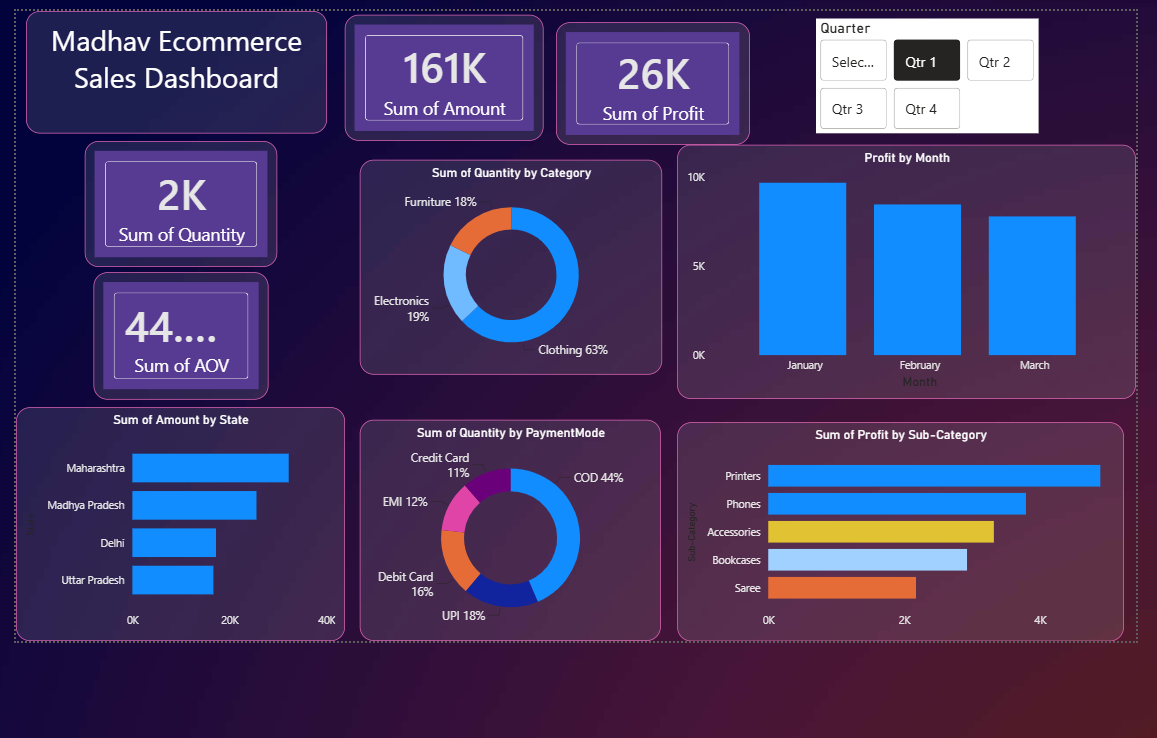

What the dashboard file says about the page in this screenshot:
{"tool":"powerbi","page":{"name":"Page 1","canvas":[1280,720],"ordinal":0},"visuals":[{"type":"textbox","box":[11.4,0,344.3,140],"z":0},{"type":"columnChart","title":" Profit by Month","fields":{"Y":["Sum(Details.Profit)"],"Category":["Orders (1).Order Date.Variation.Date Hierarchy.Month"]},"box":[755.7,152.9,524.3,290],"z":1000},{"type":"barChart","fields":{"Category":["Details.Sub-Category"],"Y":["Sum(Details.Profit)"]},"box":[755.7,470,510,250],"z":2000},{"type":"donutChart","fields":{"Category":["Details.Category"],"Y":["Sum(Details.Quantity)"]},"box":[392.9,170,345.7,245.7],"z":3000},{"type":"donutChart","fields":{"Y":["Sum(Details.Quantity)"],"Category":["Details.PaymentMode"]},"box":[392.9,467.1,344.3,252.9],"z":4000},{"type":"cardVisual","fields":{"Data":["Sum(Details.Amount)"]},"box":[375.7,4.3,227.1,144.3],"z":5000},{"type":"cardVisual","fields":{"Data":["Sum(Details.Quantity)"]},"box":[78.6,148.6,220,144.3],"z":6000},{"type":"cardVisual","fields":{"Data":["Sum(Details.Profit)"]},"box":[617.1,12.9,221.4,140],"z":7000},{"type":"cardVisual","fields":{"Data":["Sum(Details.AOV)"]},"box":[88.6,298.6,200,145.7],"z":8000},{"type":"barChart","fields":{"Y":["Sum(Details.Amount)"],"Category":["Orders (1).State"]},"box":[0,452.9,375.7,267.1],"z":9000},{"type":"advancedSlicerVisual","fields":{"Values":["Orders (1).Order Date.Variation.Date Hierarchy.Quarter"]},"box":[914.3,8.6,254.3,131.4],"z":10000}]}

Visuals, with their boxes on the page's 1280x720 design canvas (x1, y1, x2, y2). These are canvas units, not pixel positions in the 1157x738 screenshot, which may show the page scaled, cropped or inside an application window:
textbox: x1=11 y1=0 x2=356 y2=140
" Profit by Month" columnChart: x1=756 y1=153 x2=1280 y2=443
barChart - Details.Sub-Category x Sum(Details.Profit): x1=756 y1=470 x2=1266 y2=720
donutChart - Details.Category x Sum(Details.Quantity): x1=393 y1=170 x2=739 y2=416
donutChart - Sum(Details.Quantity) x Details.PaymentMode: x1=393 y1=467 x2=737 y2=720
cardVisual - Sum(Details.Amount): x1=376 y1=4 x2=603 y2=149
cardVisual - Sum(Details.Quantity): x1=79 y1=149 x2=299 y2=293
cardVisual - Sum(Details.Profit): x1=617 y1=13 x2=838 y2=153
cardVisual - Sum(Details.AOV): x1=89 y1=299 x2=289 y2=444
barChart - Sum(Details.Amount) x Orders (1).State: x1=0 y1=453 x2=376 y2=720
advancedSlicerVisual - Orders (1).Order Date.Variation.Date Hierarchy.Quarter: x1=914 y1=9 x2=1169 y2=140
